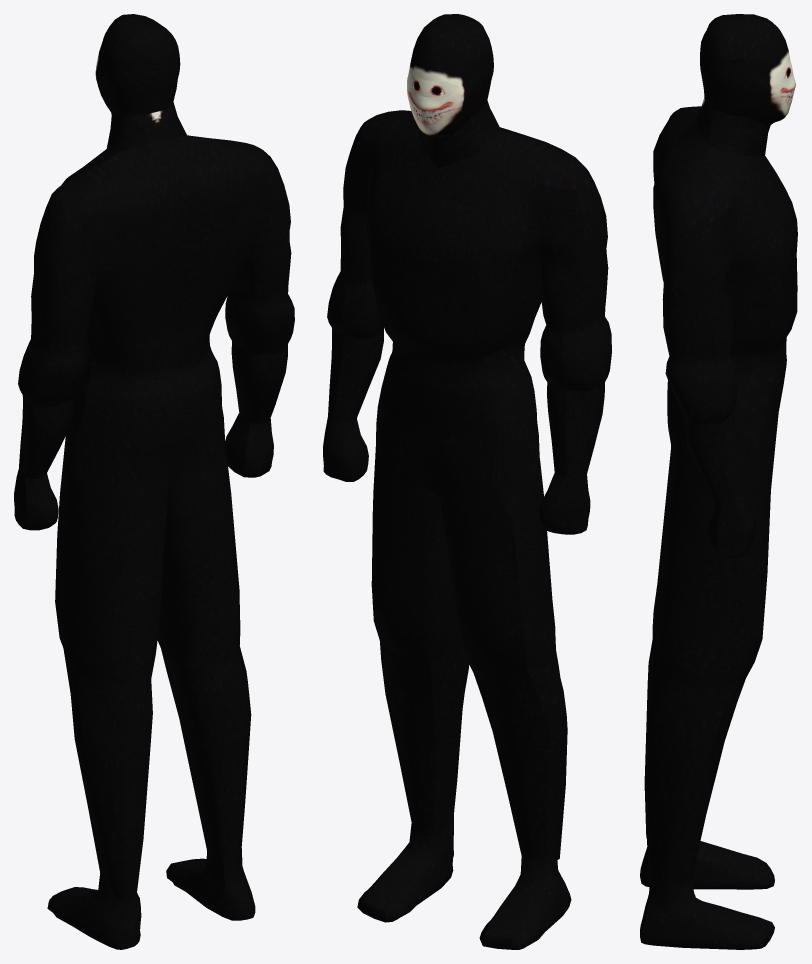
Rendered from mental.obj.
3 renders of one model, left to right at view 1: azimuth 30°, elevation 25°; view 2: azimuth 150°, elevation 25°; view 3: azimuth 270°, elevation 25°, orthographic. The views are drawn at different scales.
Parts seen in each view (by area): view 1: mental; view 2: mental; view 3: mental.
Part boxes in pixels (bbox=[...]): mental: bbox=[14, 14, 294, 949]; mental: bbox=[323, 14, 611, 949]; mental: bbox=[640, 14, 797, 949].
Size of the model in its own units: 3 by 9.57 by 1.54.
Materials: 1 (1 with a texture image).
